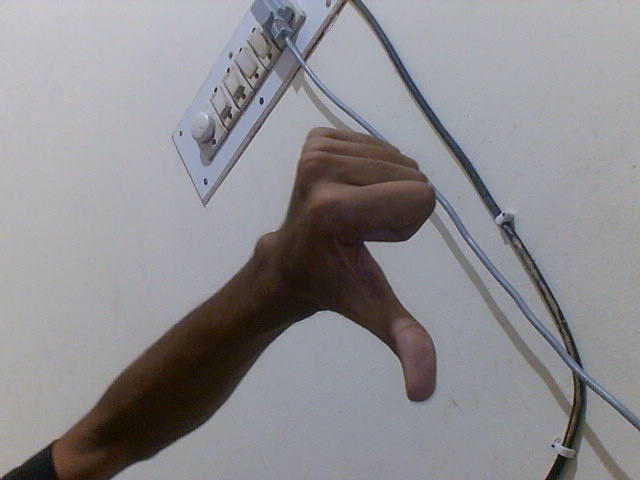hand: (260, 120, 445, 414)
